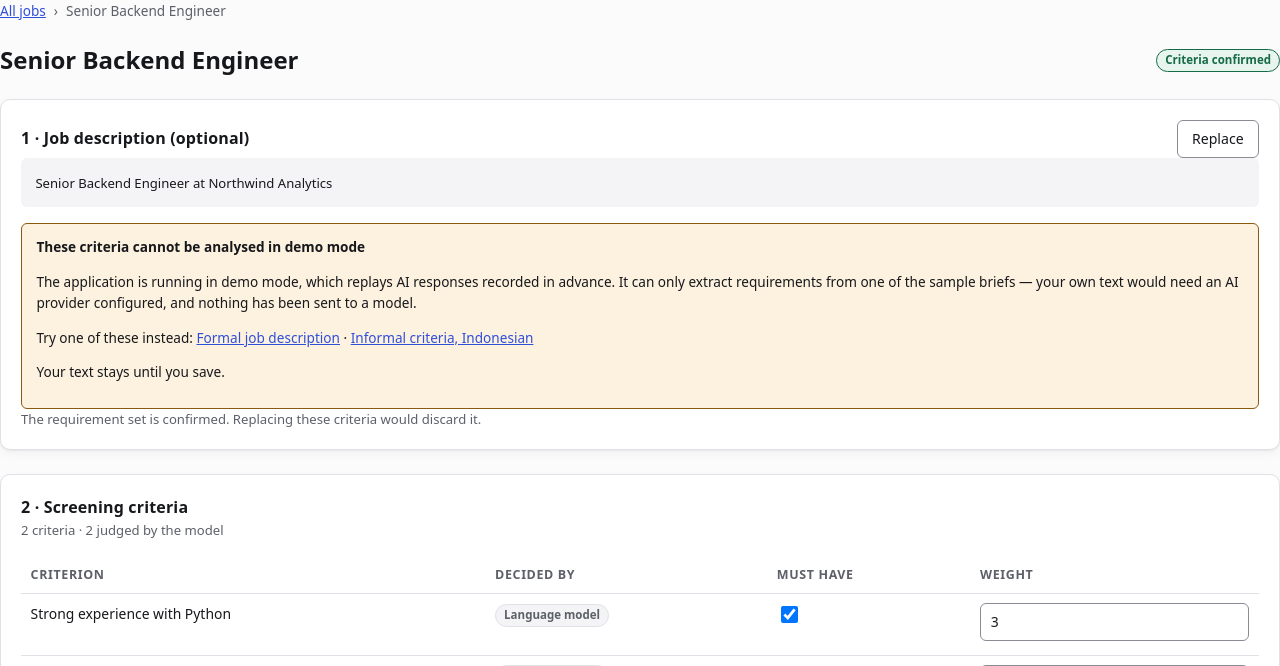
Test: JobPage › warns before replacing a description, not after
Click the button "Replace" at [1218, 139], box [1177,120,1259,158]
(page scrolled)
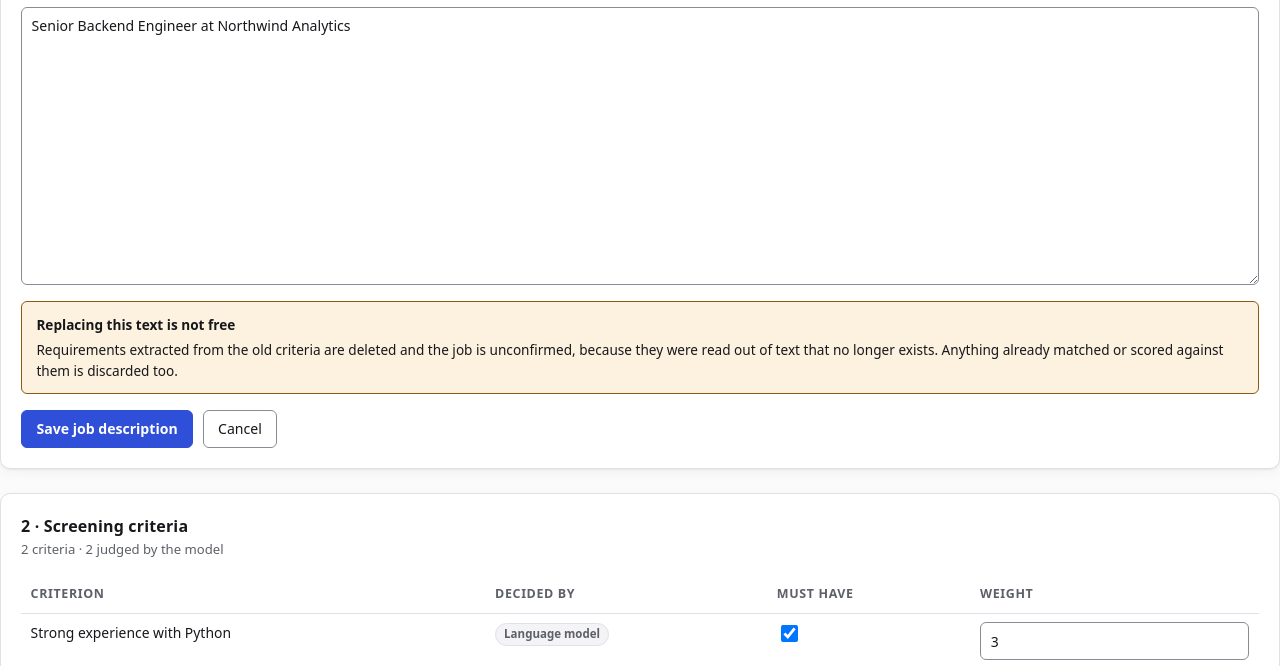
Expected: the text "Replacing this text is not free" is shown, [36,315,235,334]
Expected: the text "are deleted and the job is unconfirmed" is shown, [36,340,1224,380]
